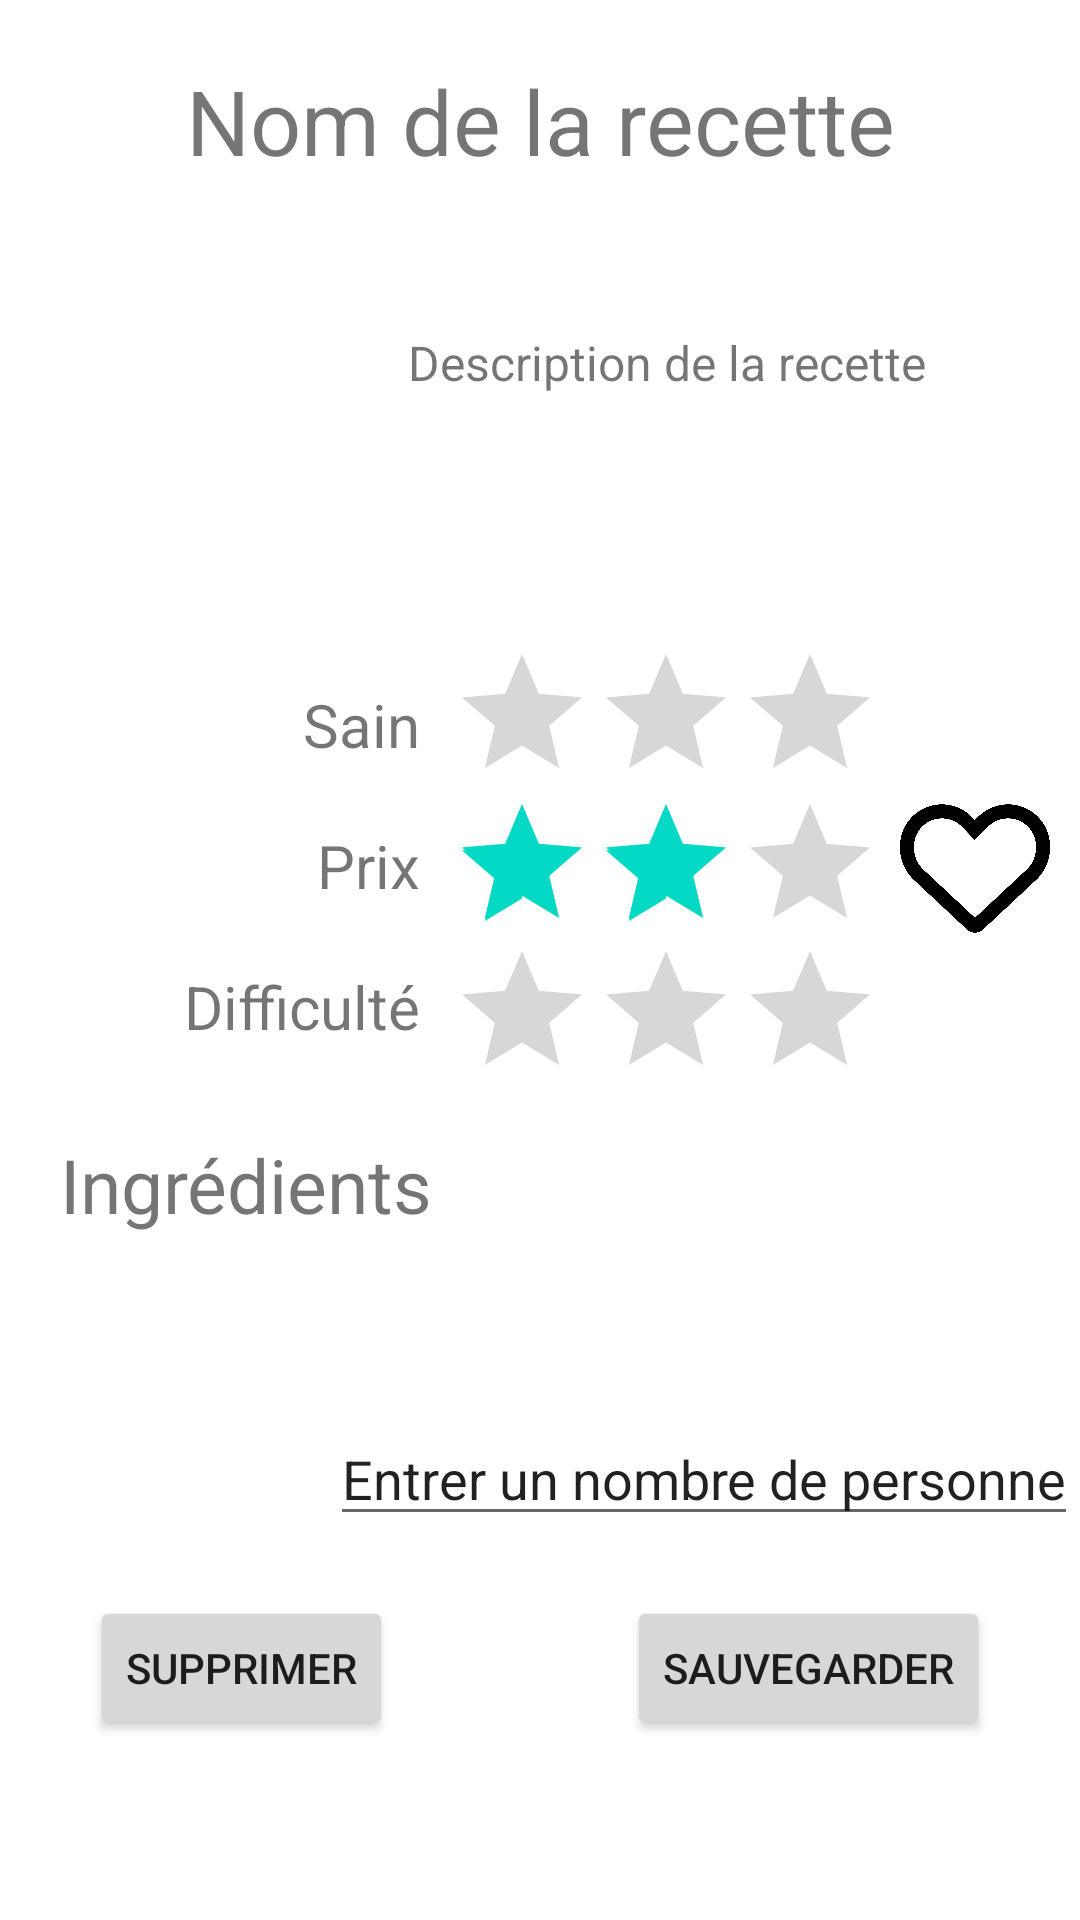

Screen size 1080 x 1920. Icon name, then its center in pixels as point (x, y):
empty heart: point (975, 868)
